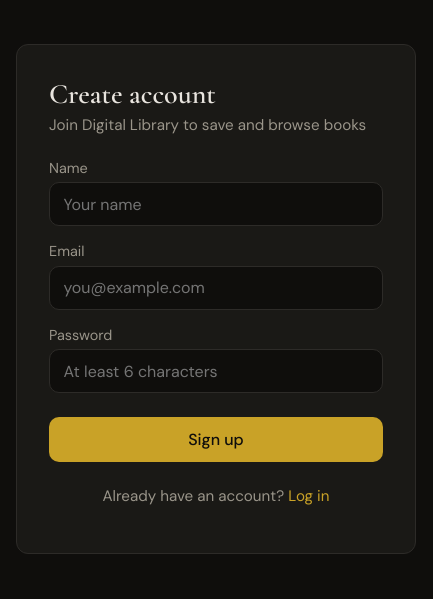
Test case: Signup › shows client-side error when password too short
The width and height of the screenshot is (433, 599).
In the field with placeholder "Your name": (216, 204) [49,182,383,226], type "Jane"
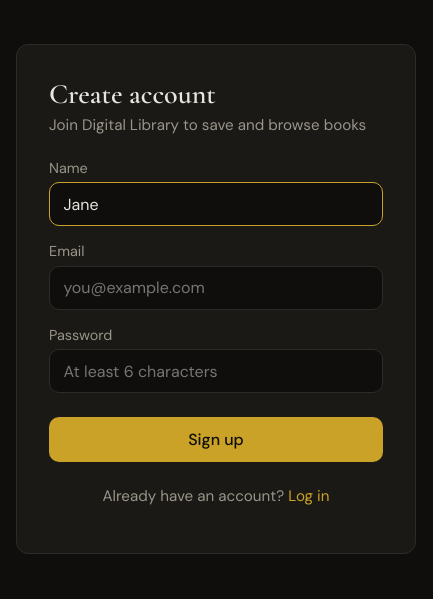
In the field with placeholder "you@example.com": (216, 288) [49,266,383,310], type "j@b.com"
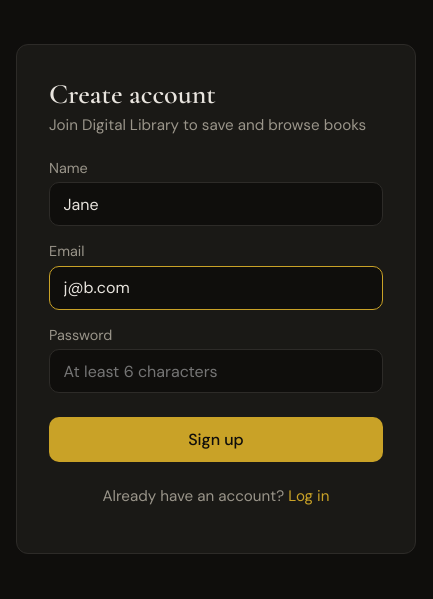
In the password field with placeholder "At least 6 characters": (216, 371) [49,349,383,393], type "12345"
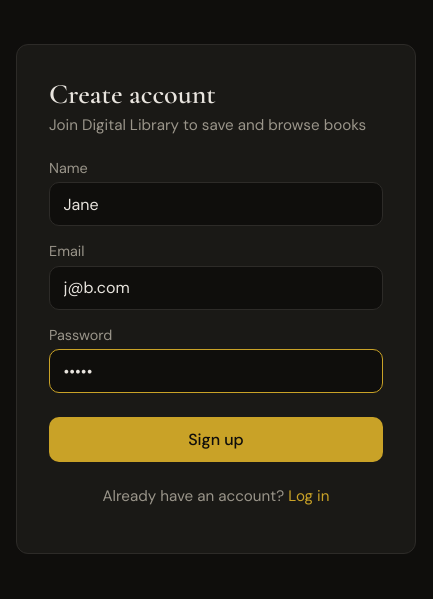
Click the button "Sign up": (216, 440) [49,417,383,462]
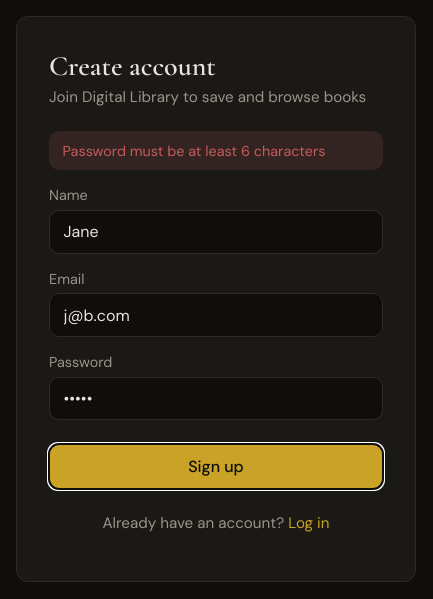
Expected: the text "Password must be at least 6 characters" is shown, [49,132,383,170]
